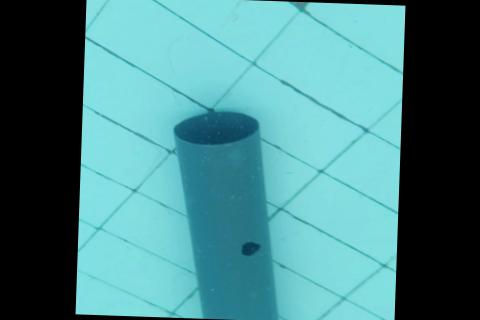kebocoran: (238, 241, 262, 257)
